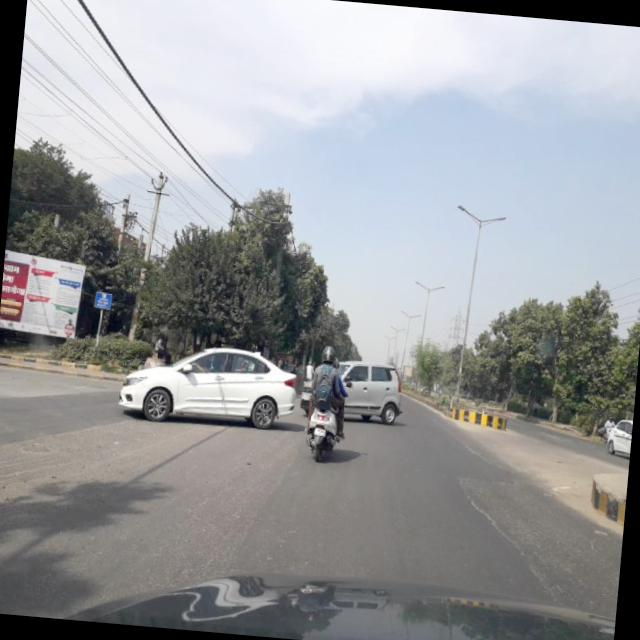crack: (451, 470, 517, 540), (508, 542, 574, 611)
